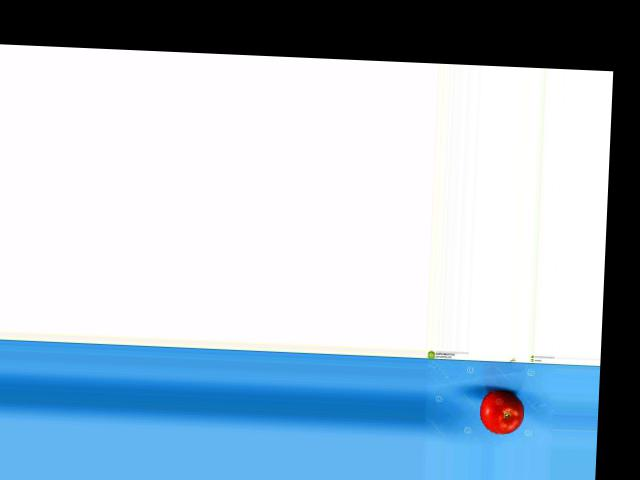tomato: (479, 390, 525, 434)
